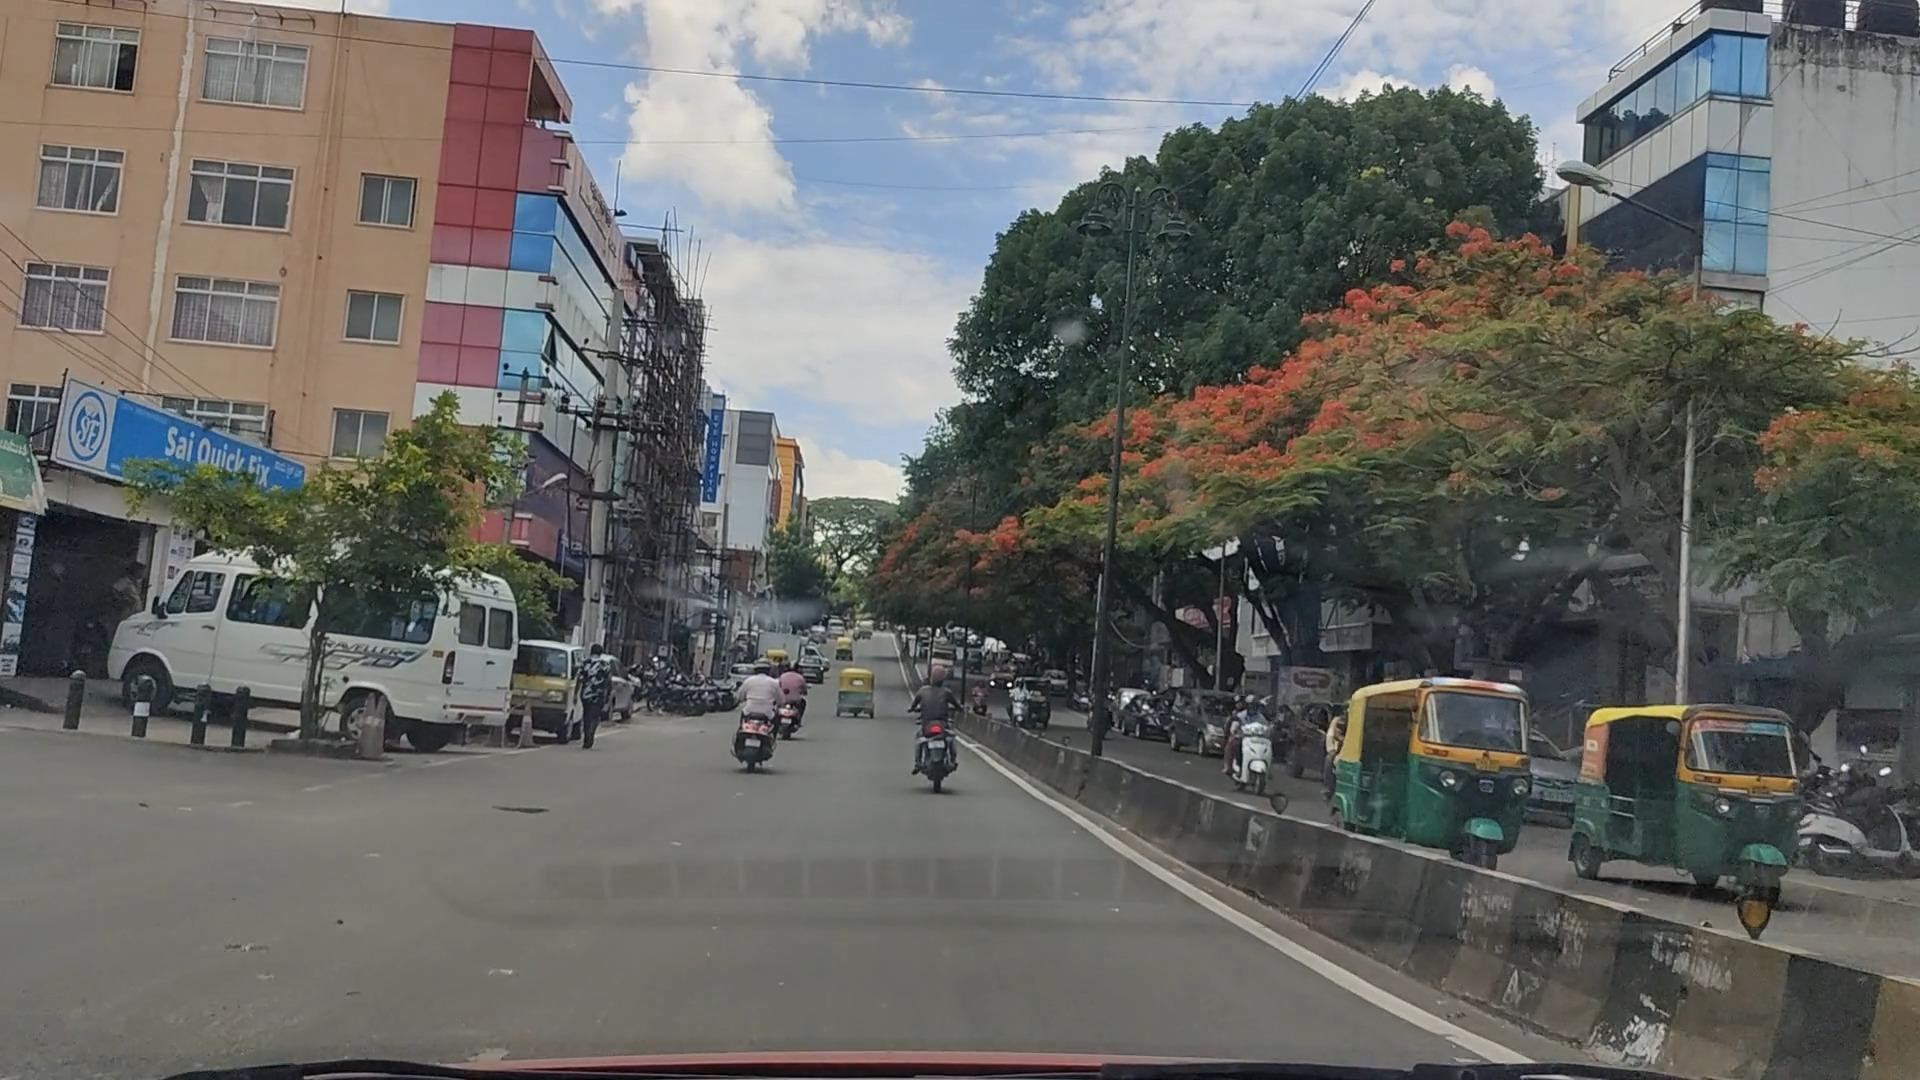LMV: (908, 673, 969, 800), (743, 675, 791, 776)
